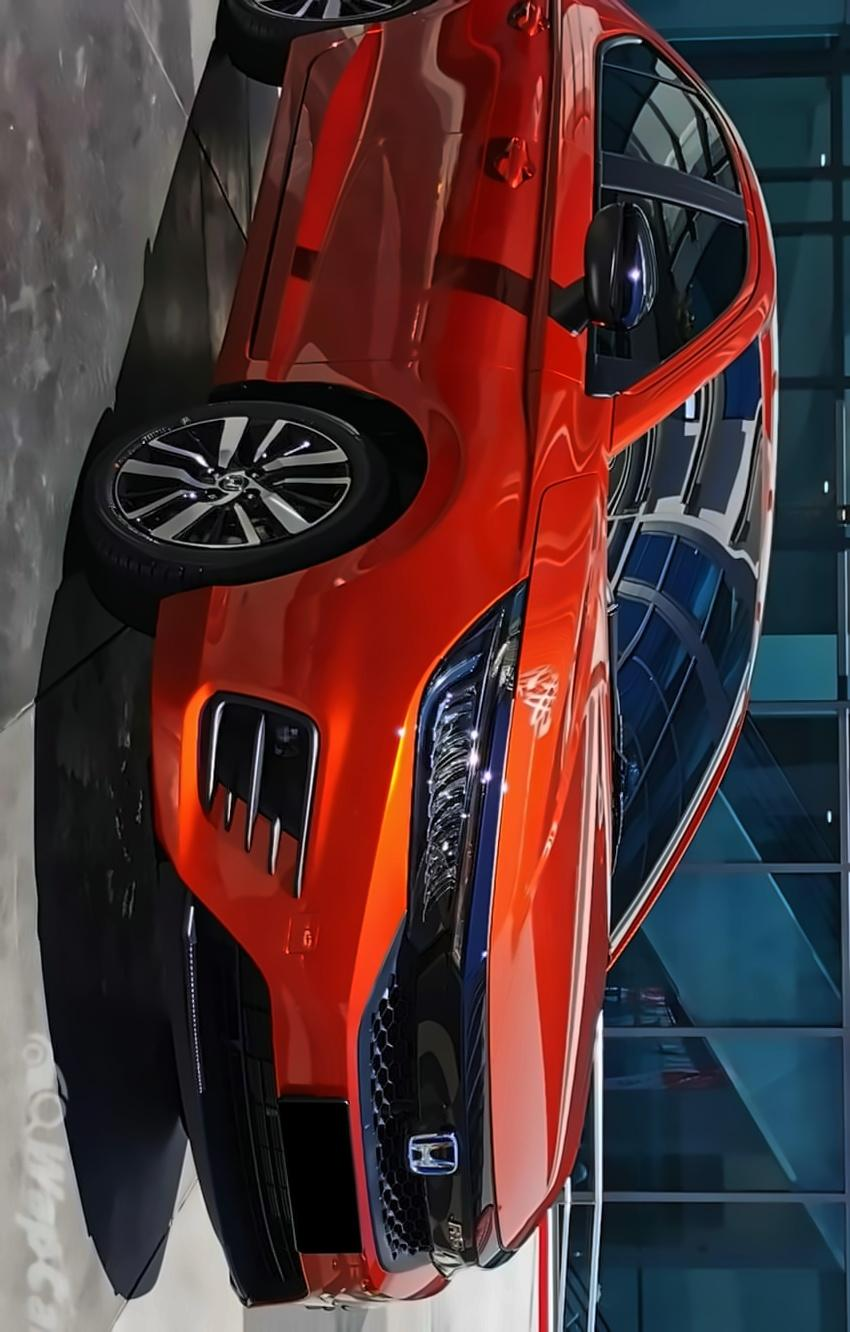Car hood: (484, 467, 613, 1294)
Driver-s door - -F-R-: (247, 216, 786, 403)
Fender - -F-R-: (224, 337, 613, 631)
Front bumper: (120, 540, 452, 1299)
Headlight - -L-: (527, 170, 674, 371), (413, 1174, 534, 1332)
Headlight - -R-: (396, 560, 537, 961)
Passenger-s door - -R-R-: (297, 0, 771, 195)
Side bumper - -R-: (204, 14, 334, 398)
